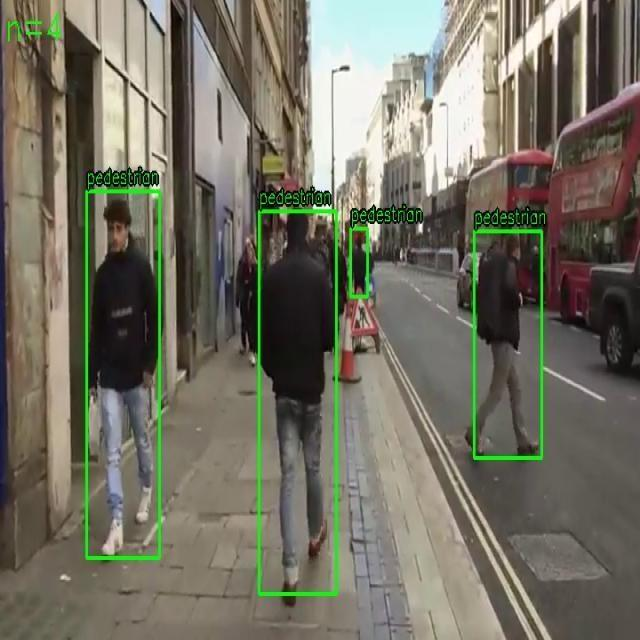person: (259, 210, 337, 594), (86, 191, 160, 558), (473, 231, 542, 458), (350, 228, 368, 298)
